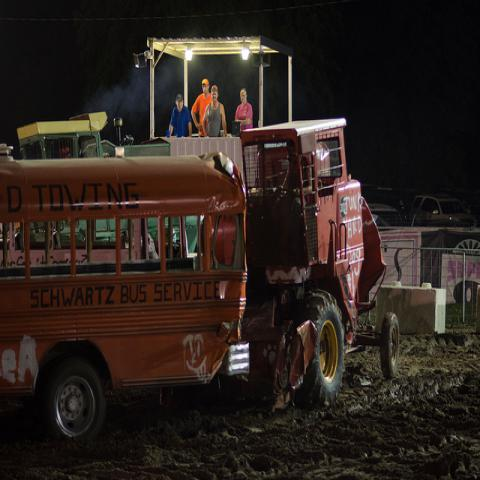bus: (1, 151, 248, 458)
truck: (18, 110, 245, 176)
